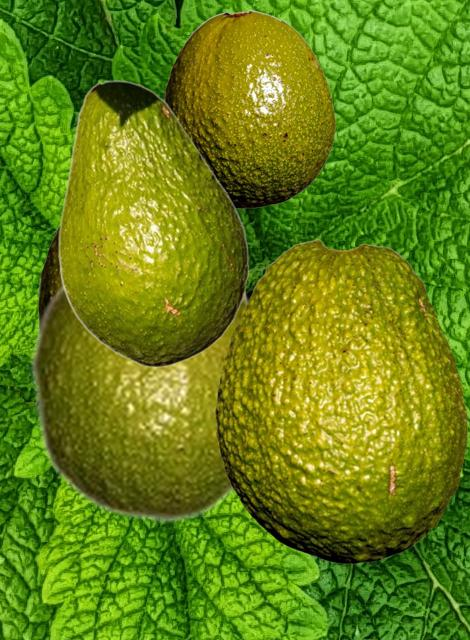avocado: (215, 239, 466, 563), (58, 80, 248, 366), (29, 283, 250, 524), (164, 10, 334, 207), (38, 226, 60, 320)
